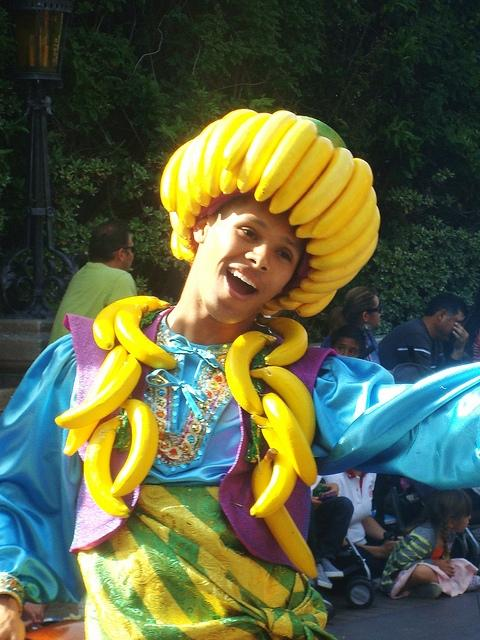banana: (250, 448, 318, 580), (62, 346, 126, 456), (55, 354, 142, 429), (249, 365, 316, 447), (262, 392, 318, 487), (288, 146, 354, 226), (255, 120, 318, 202), (310, 158, 374, 238), (269, 136, 334, 214), (202, 108, 258, 198), (236, 110, 296, 194), (307, 204, 381, 271), (84, 416, 132, 518), (306, 187, 377, 255), (250, 416, 297, 518), (110, 398, 158, 497), (225, 330, 277, 416), (93, 296, 172, 350), (114, 305, 176, 369), (308, 233, 378, 283), (222, 112, 272, 172), (189, 120, 222, 207), (257, 314, 308, 366), (160, 138, 194, 212), (300, 266, 364, 294), (184, 143, 204, 216), (294, 205, 332, 239), (296, 290, 338, 318), (176, 172, 196, 228), (219, 155, 245, 194), (286, 288, 336, 304), (169, 212, 190, 240), (178, 234, 196, 264), (276, 296, 306, 311), (262, 300, 284, 312), (260, 307, 278, 316)
